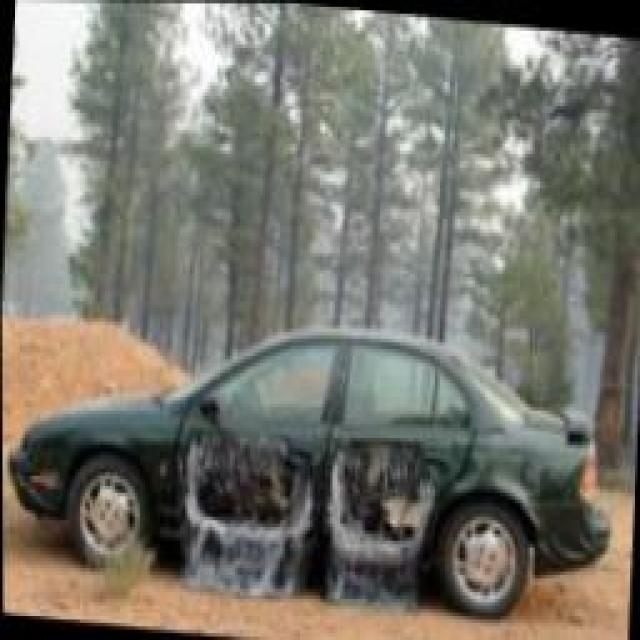Bumper: (532, 496, 603, 579)
Door: (172, 397, 318, 580), (318, 421, 458, 583)
